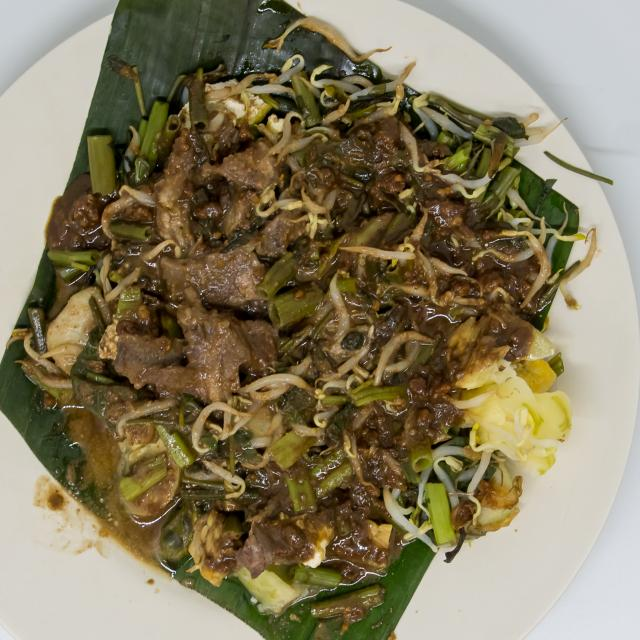Rujak-Cingur: (37, 56, 582, 588)
